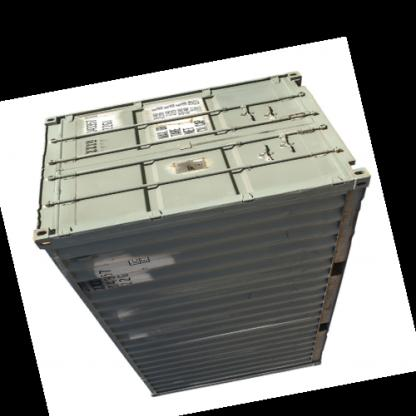Damage: (326, 187, 354, 266), (322, 260, 348, 344)
